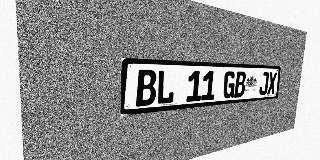1: (186, 70, 203, 102), (201, 71, 216, 101)
B: (136, 69, 157, 107), (234, 71, 246, 98)
G: (223, 71, 236, 99)
J: (259, 72, 269, 95)
L: (156, 70, 175, 105)
X: (267, 72, 277, 95)
